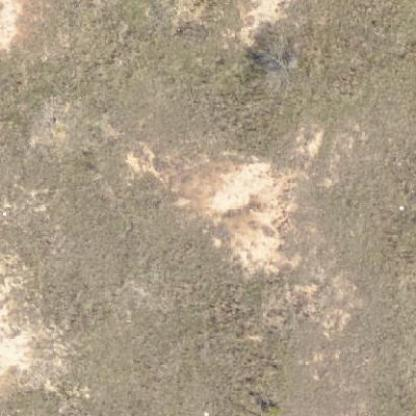tree-top: (244, 20, 326, 98), (256, 396, 282, 415)
